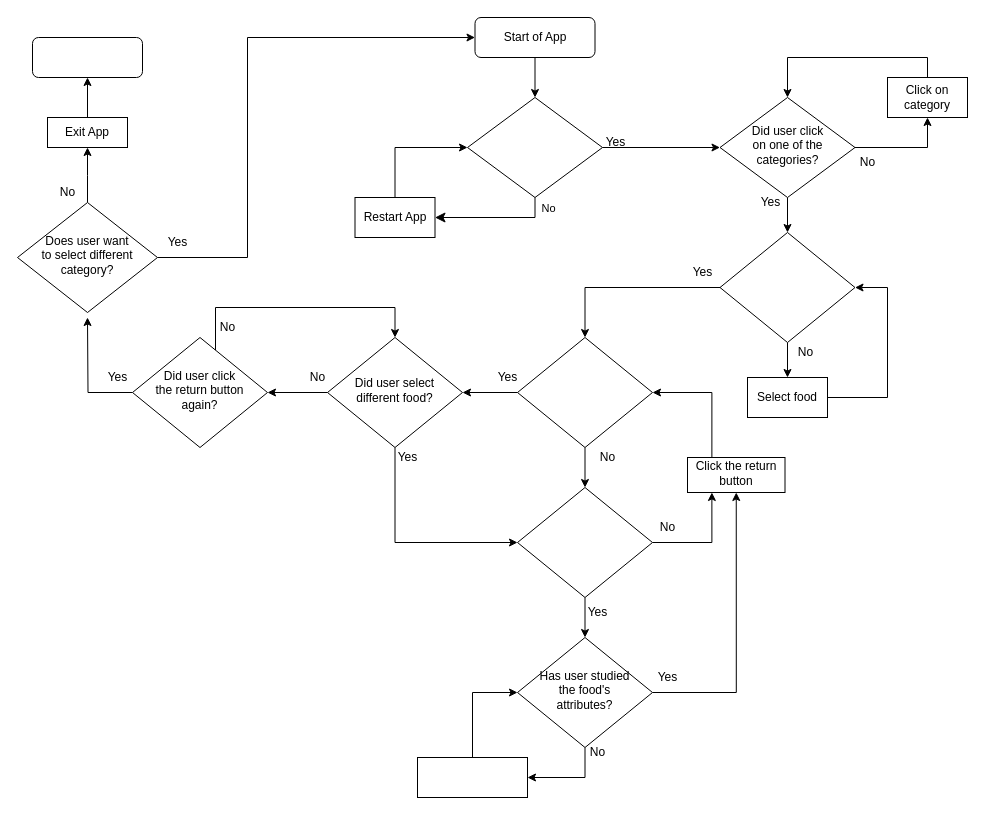
Image size: 985x815. Some labels were removed from this diagram. The centre of each missing label's shape, as x and y in pixels:
Did user click the return button?: the point at 584,392
Did user select one of the possible foods?: the point at 787,287
Does App display data correctly? (JSON): the point at 534,147
End: the point at 87,57
Is user studying the food's attributes?: the point at 584,542
Study the food's attributes: the point at 472,777
